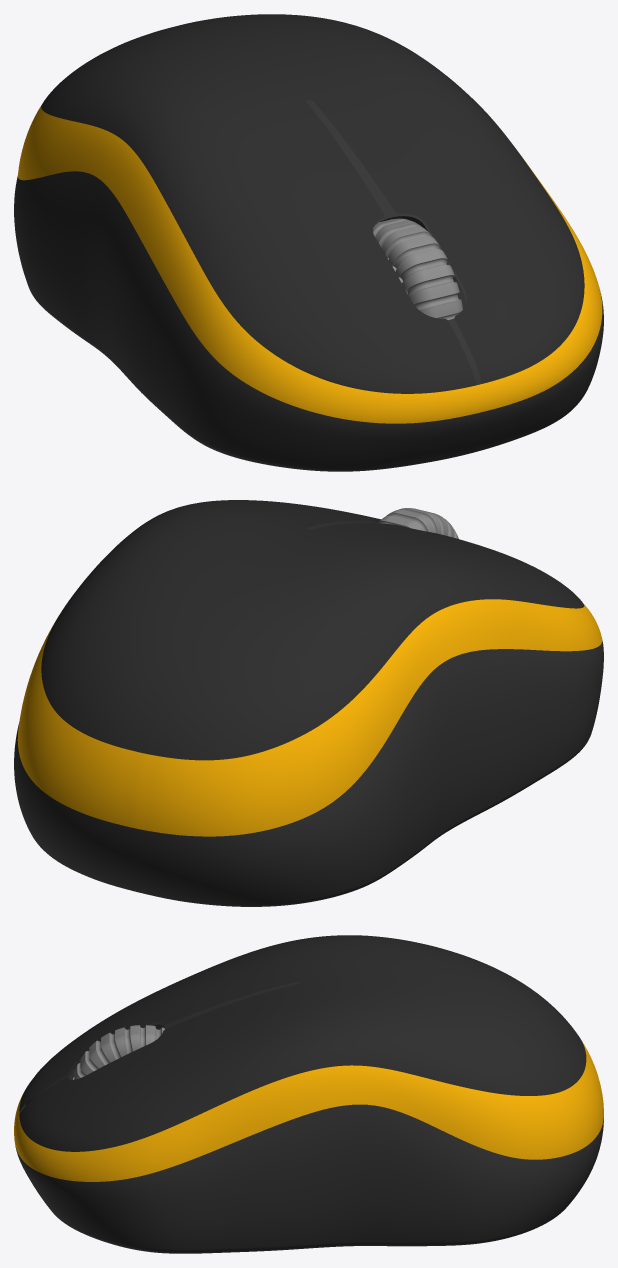
The model's file is mouse.fbx.
3 renders of one model, top to bottom at view 1: azimuth 30°, elevation 25°; view 2: azimuth 150°, elevation 25°; view 3: azimuth 270°, elevation 25°, orthographic. The views are drawn at different scales.
Parts seen in each view (by area): view 1: part 3, part 1, part 2, part 4, Extra; view 2: part 3, part 1, part 2, part 4; view 3: part 3, part 1, part 2, part 4, Extra.
Boxes of the visible parts, x1,y1,x2,y2 form: part 3: (41, 14, 584, 393); part 1: (14, 171, 603, 471); part 2: (17, 105, 602, 423); part 4: (373, 218, 462, 319); Extra: (306, 100, 584, 384); part 3: (41, 500, 584, 760); part 1: (14, 640, 603, 906); part 2: (17, 599, 602, 836); part 4: (378, 508, 458, 538); part 3: (19, 935, 586, 1151); part 1: (15, 1103, 603, 1253); part 2: (14, 1041, 603, 1181); part 4: (72, 1025, 164, 1079); Extra: (25, 982, 354, 1105).
Size of the model in its own units: 47.8 by 75.76 by 29.15.
